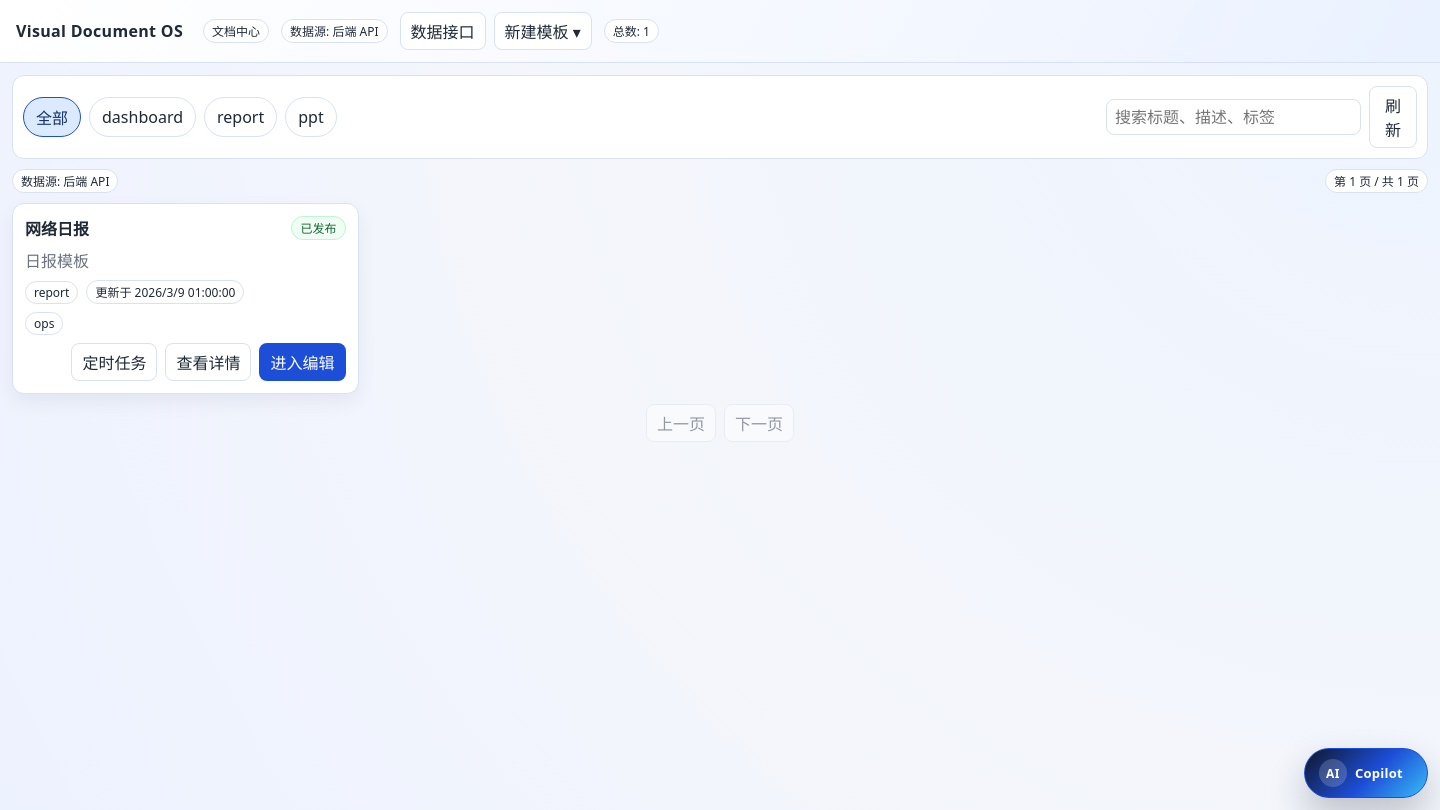
Scenario: App library integrations › opens schedule panel from template cards
Expected: the text "网络日报" is shown, [25,216,89,240]
Click the button "定时任务" at (114, 362), box [72,343,158,381]
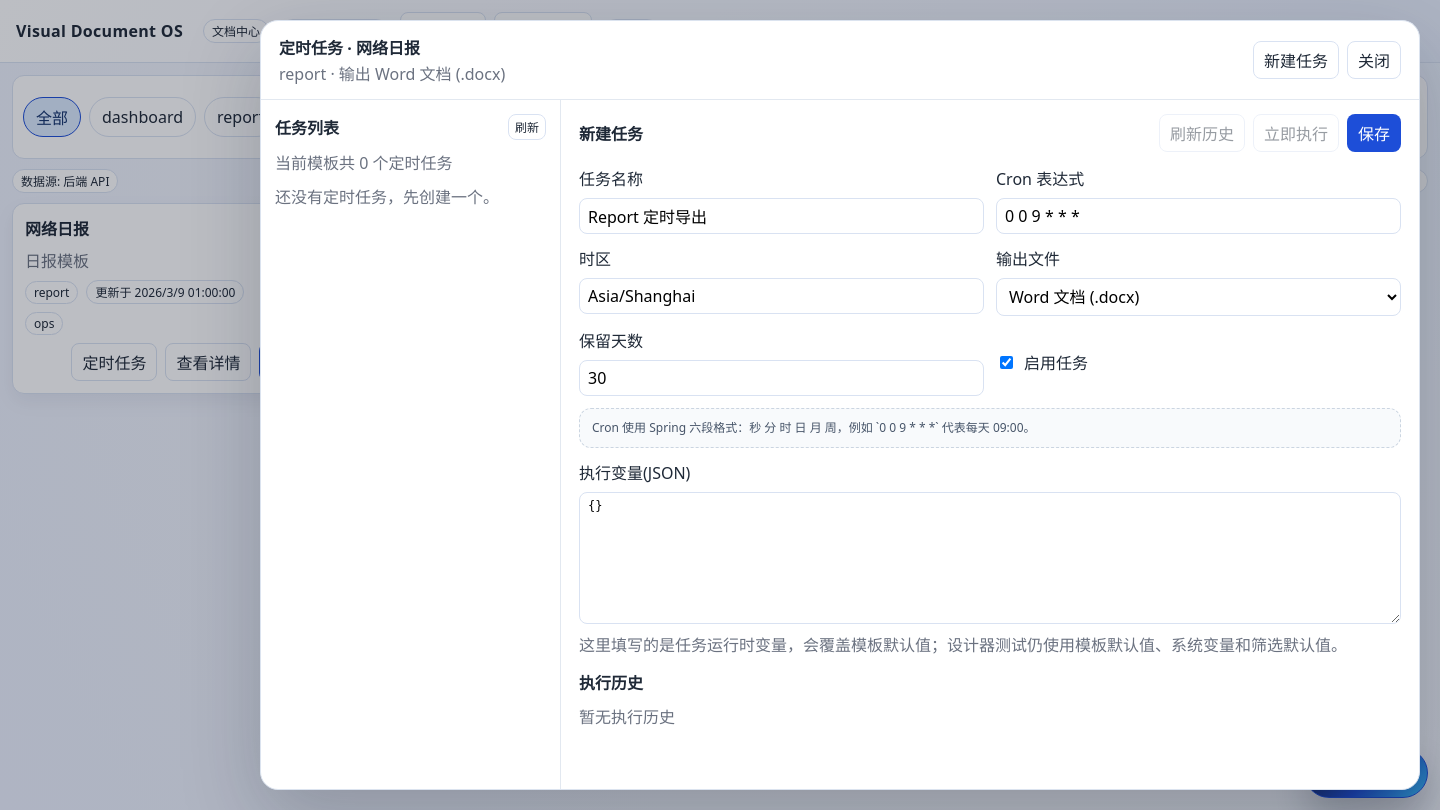
Now the text "定时任务 · 网络日报" is shown, box [279,37,420,59]
